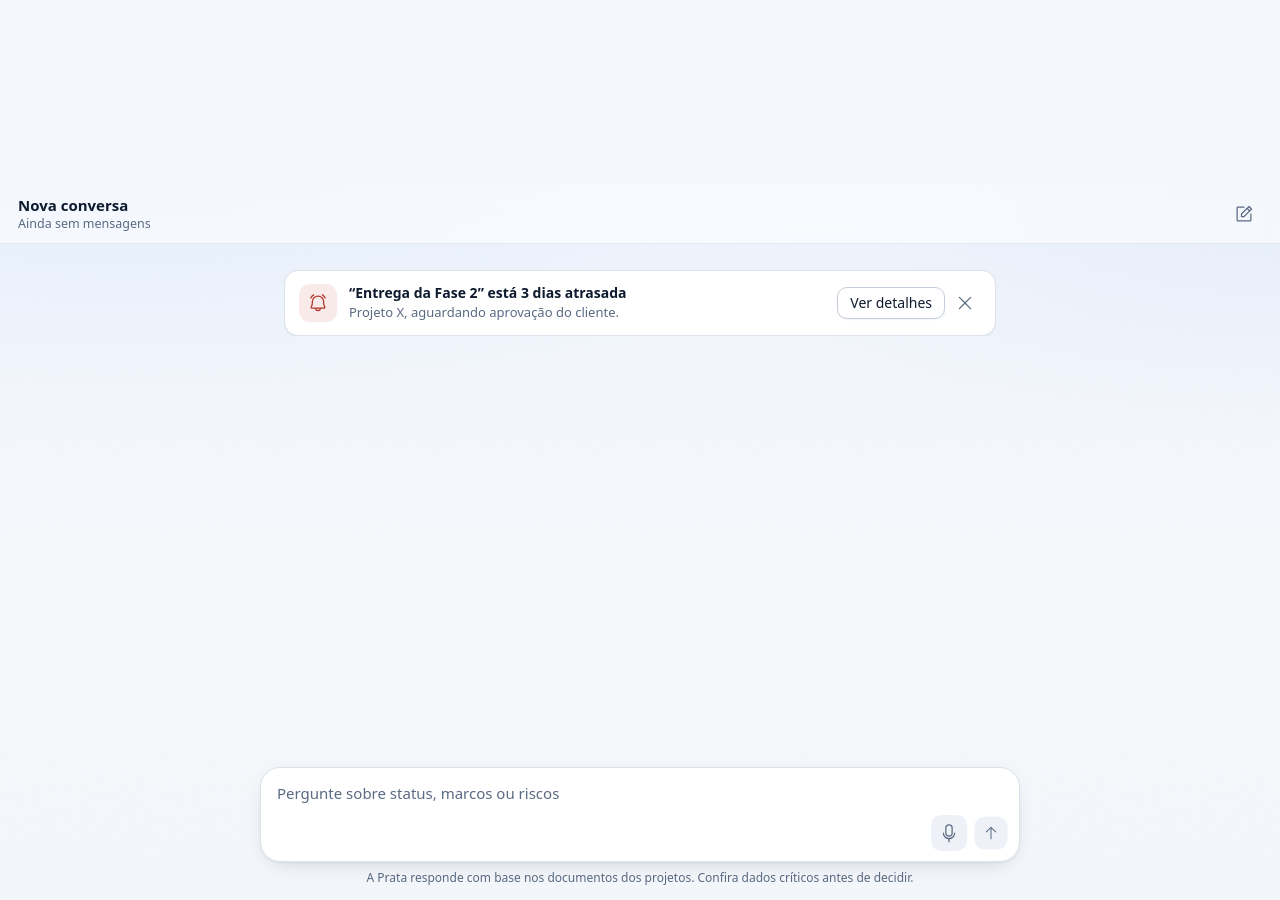
Tempo limite › libera a conversa quando o agente não responde no prazo
(page scrolled)
Type "Quais marcos estão atrasados?" into the text box named "Mensagem" at (643, 793), box x1=277 y1=780 x2=1009 y2=807
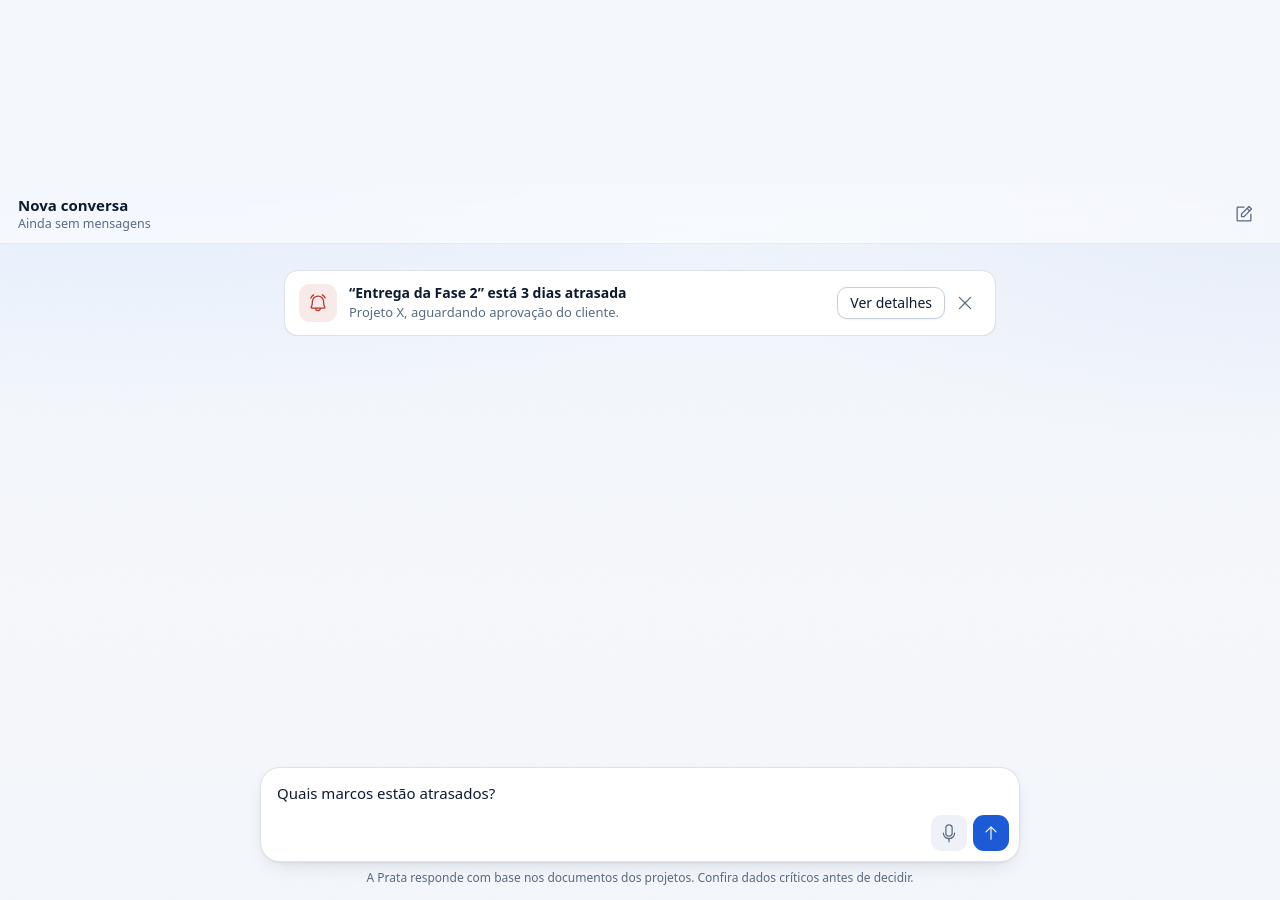
Click the button named "Enviar mensagem" at (991, 833), box x1=973 y1=815 x2=1009 y2=851
Wait 60000 ms
(page scrolled)
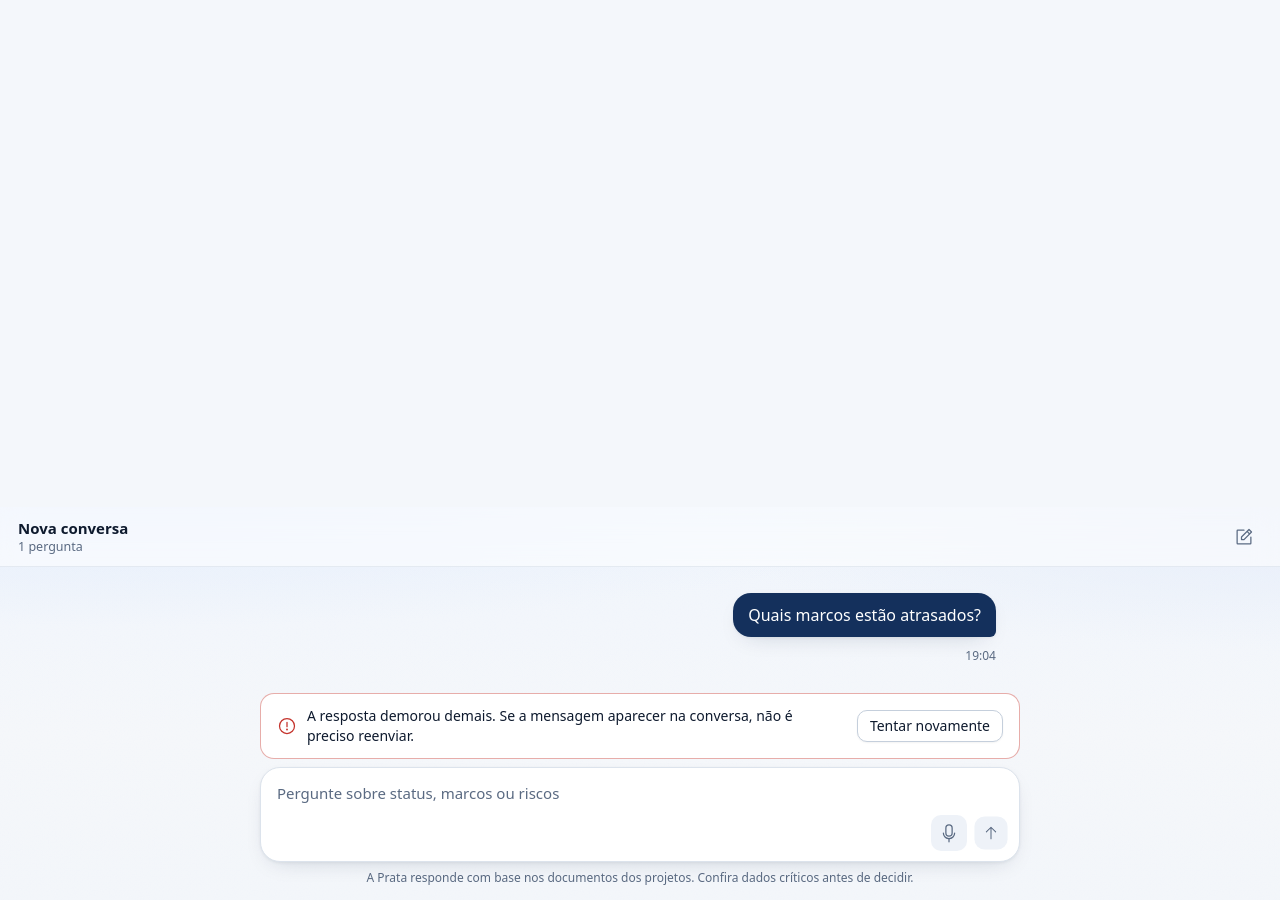
Check: the message shows "A resposta demorou demais", box x1=307 y1=706 x2=793 y2=745
Check: the button "Tentar novamente" is shown, box x1=857 y1=710 x2=1003 y2=742
